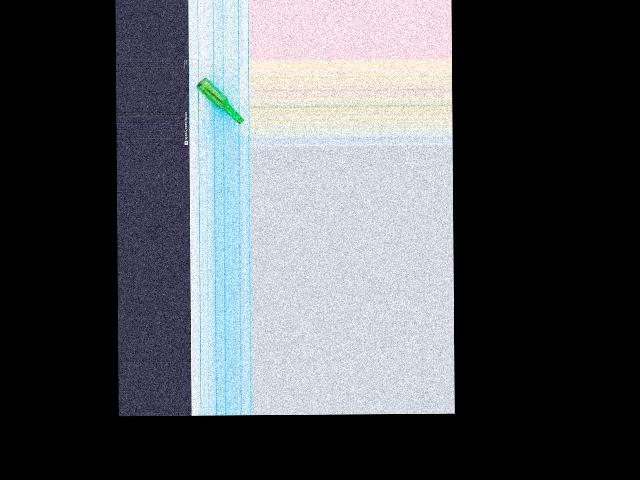beer: (195, 76, 243, 124)
